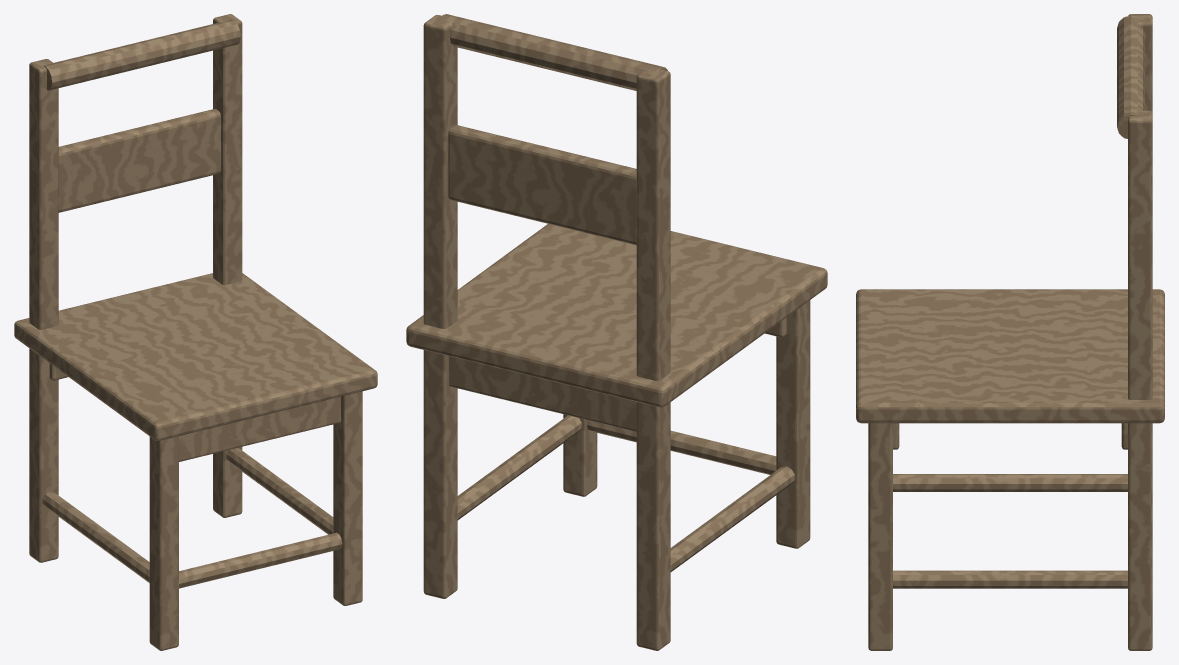
The model's file is FUR_WoodChair.fbx.
The picture shows the model from 3 angles, left to right: view 1: azimuth 30°, elevation 25°; view 2: azimuth 150°, elevation 25°; view 3: azimuth 270°, elevation 25°; orthographic projection. The views are drawn at different scales.
Visible parts, largest first — view 1: FUR_WoodChair; view 2: FUR_WoodChair; view 3: FUR_WoodChair.
Part boxes in pixels (x1,y1,x2,y2): FUR_WoodChair: (14, 14, 377, 650); FUR_WoodChair: (406, 14, 827, 650); FUR_WoodChair: (856, 14, 1164, 650).
Size of the model in its own units: 45 by 95.25 by 50.
